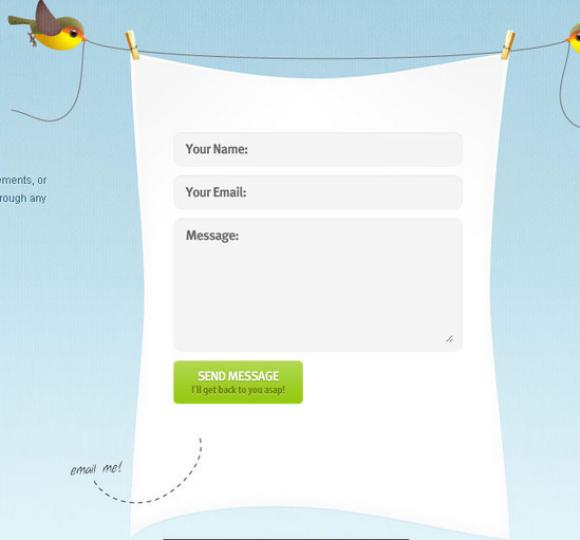_form_: (109, 61, 525, 477)
button: (172, 360, 302, 404)
field: (174, 218, 465, 352), (172, 174, 464, 210), (172, 131, 462, 167)
